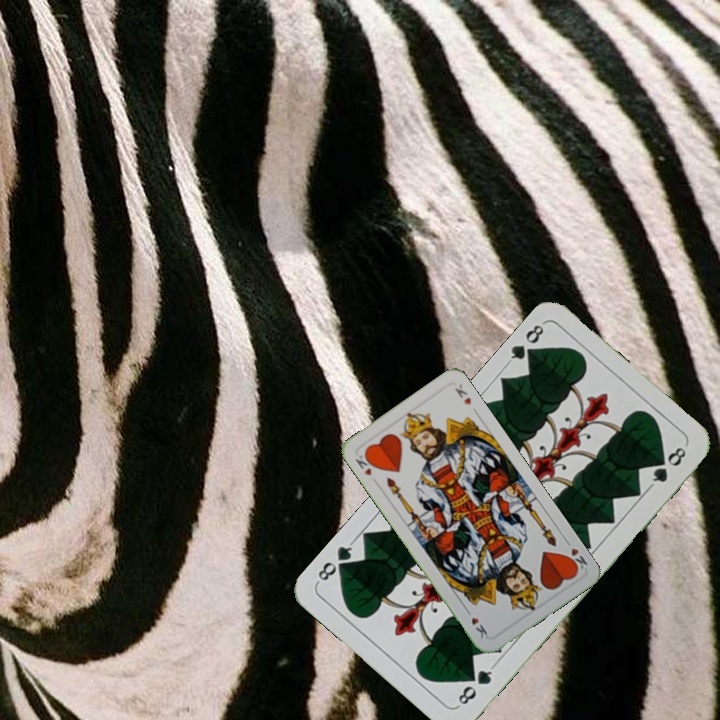G8: (502, 318, 548, 367), (453, 661, 497, 710)
HK: (561, 535, 590, 575), (351, 451, 374, 479)
